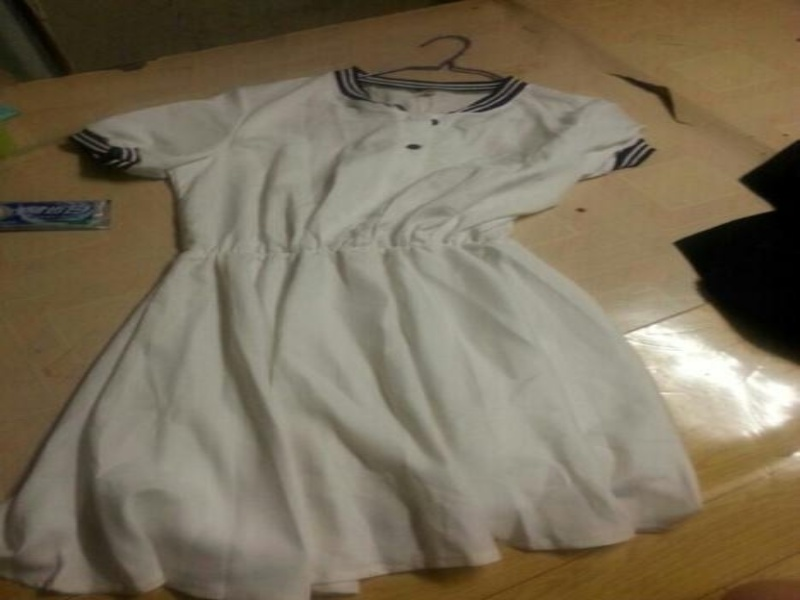short_sleeved_dress: (0, 66, 708, 599)
